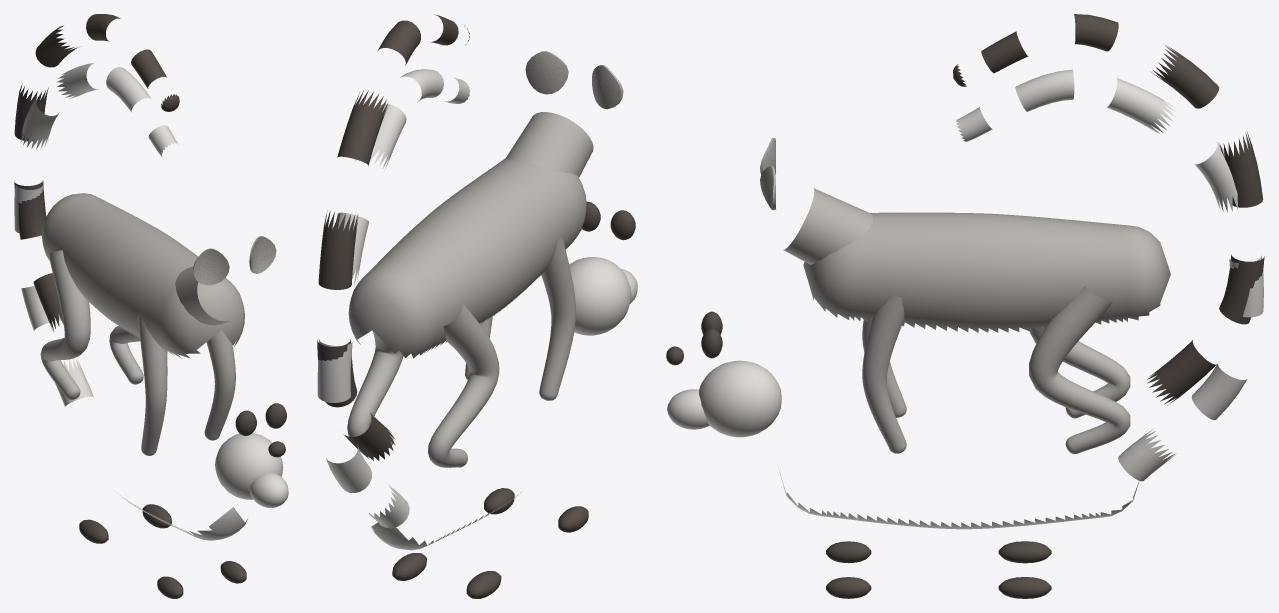
Rendered from other-ring-tailed-lemur.glb.
The picture shows the model from 3 angles, left to right: view 1: azimuth 30°, elevation 25°; view 2: azimuth 150°, elevation 25°; view 3: azimuth 270°, elevation 25°; orthographic projection. The views are drawn at different scales.
Visible parts, largest first — view 1: ring-tailed-lemur; view 2: ring-tailed-lemur; view 3: ring-tailed-lemur.
Part boxes in pixels (x1,y1,x2,y2): ring-tailed-lemur: (14,14,288,598); ring-tailed-lemur: (317,14,637,598); ring-tailed-lemur: (666,14,1264,598).
Size of the model in its own units: 5811 by 26920 by 25543.
Materials: 4 (3 with a texture image).
